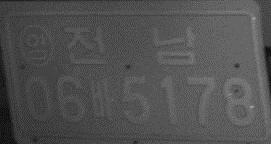0: (23, 74, 54, 125)
1: (153, 73, 183, 127)
5: (120, 74, 150, 124)
6: (56, 75, 85, 123)
7: (186, 75, 217, 128)
8: (221, 75, 254, 125)
바: (88, 75, 114, 121)
영: (17, 22, 55, 67)
전남_D: (62, 25, 197, 66)
